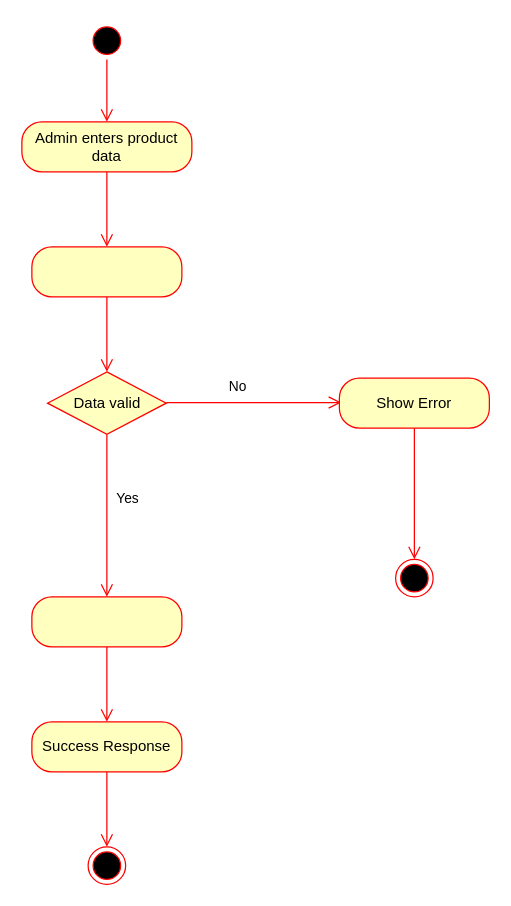
Some shapes in this 511 by 906 pixel diagram are drawn without their labels. Here are the shapes that lost their labels. From the top down, the centre of each, then its label:
At pixel 106 271: "Validate Data".
At pixel 106 621: "Save Product".
